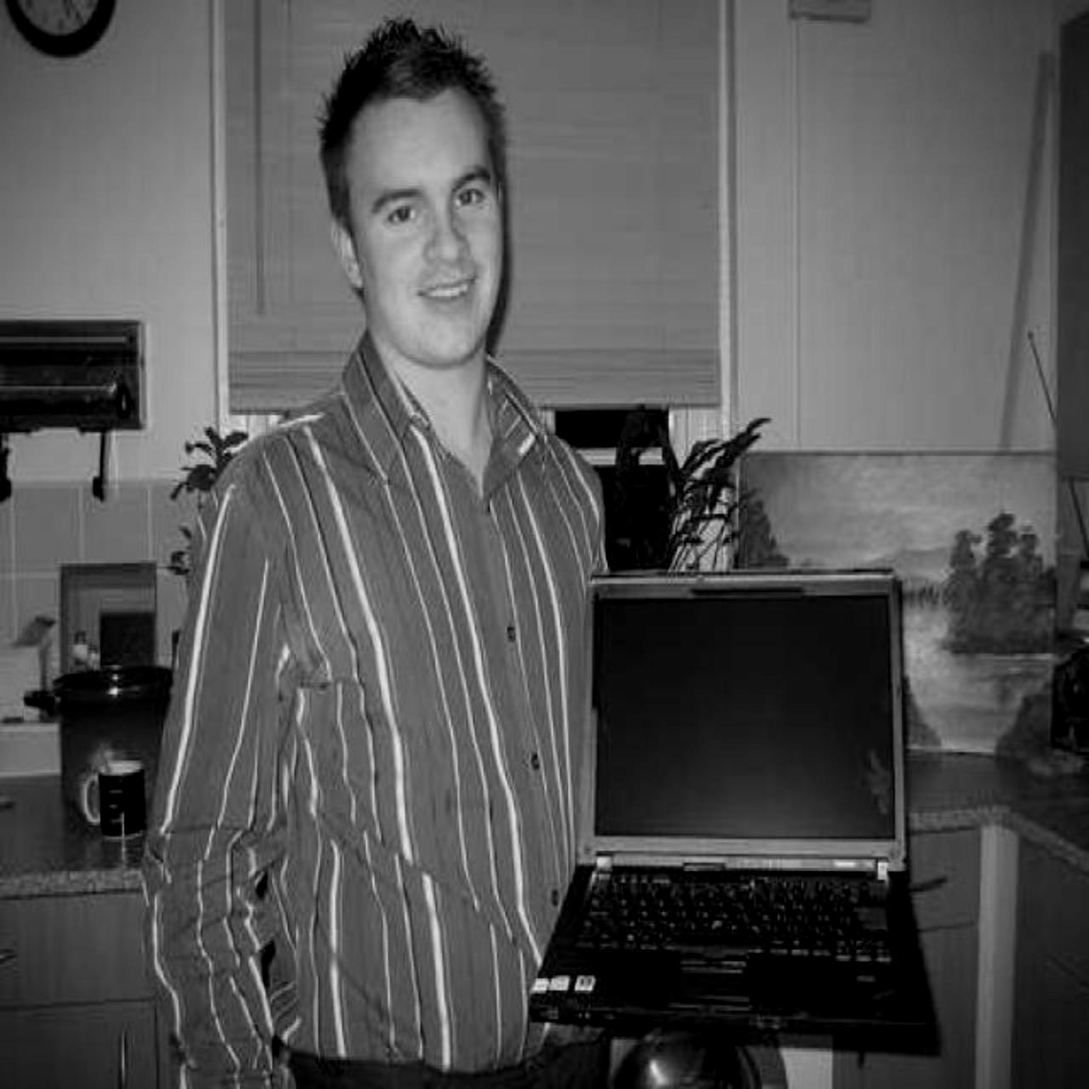laptop: (535, 580, 921, 1053)
